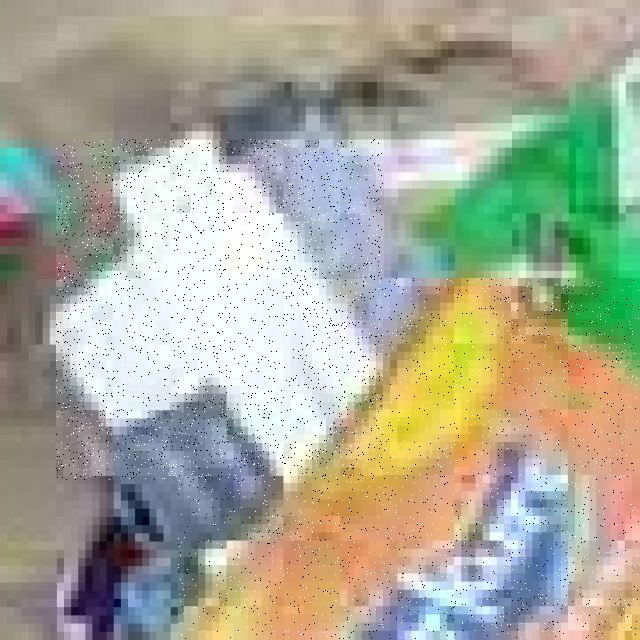styrofoam: (57, 140, 383, 480)
wrapper: (179, 279, 639, 639)
